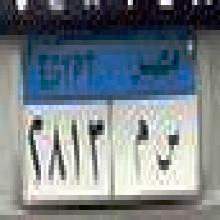1: (70, 116, 82, 182)
2: (27, 112, 45, 185)
3: (86, 114, 107, 187)
8: (48, 116, 66, 186)
meem: (132, 109, 150, 187)
seen: (155, 116, 183, 179)
